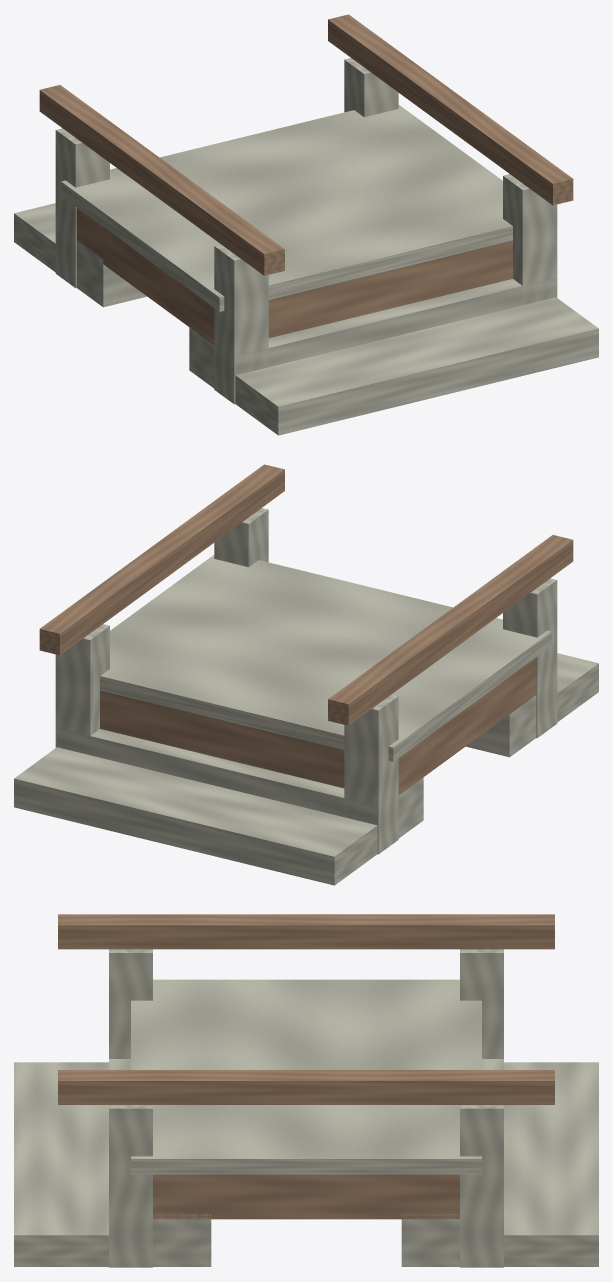
File: lantern-watch-arched-courtyard-bridge__80.glb
3 views of the same model, one above another, from view 1: azimuth 30°, elevation 25°; view 2: azimuth 150°, elevation 25°; view 3: azimuth 270°, elevation 25° (orthographic). The views are drawn at different scales.
Visible parts, largest first — view 1: lantern-watch-stone-bridge; view 2: lantern-watch-stone-bridge; view 3: lantern-watch-stone-bridge.
Part boxes in pixels (x1,y1,x2,y2): lantern-watch-stone-bridge: (14, 14, 598, 435); lantern-watch-stone-bridge: (14, 464, 598, 885); lantern-watch-stone-bridge: (14, 914, 598, 1267).
Size of the model in its own units: 1.45 by 0.69 by 2.
2 materials, 2 textured.
